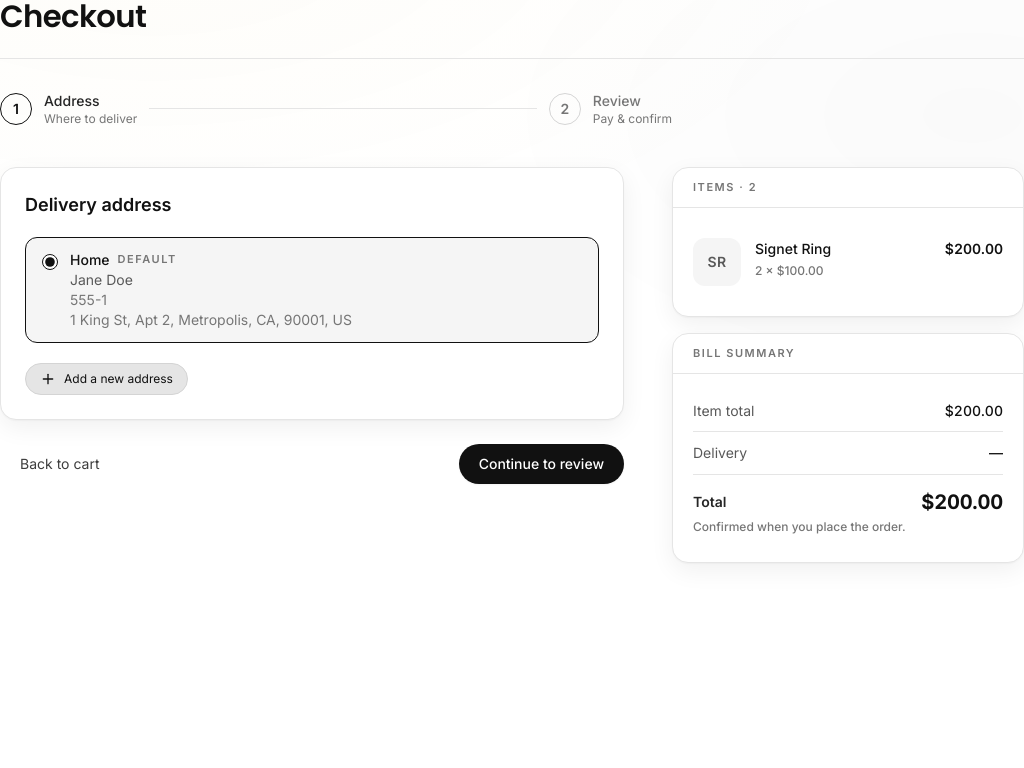
Test: Checkout (WP-2.5) › defaults to the online gateway over Manual UPI over COD when all three are enabled
Expected: the heading "Delivery address" is shown, x1=25 y1=194 x2=172 y2=215
Click the radio button labelled "Home": [50, 262] box x1=42 y1=254 x2=58 y2=270
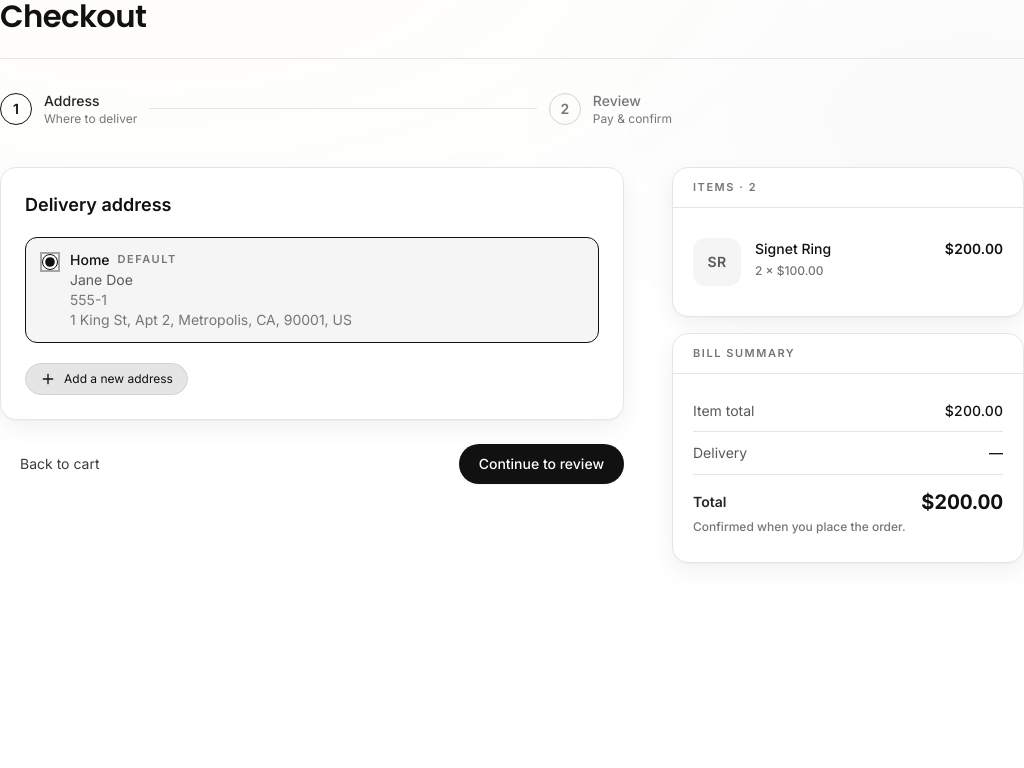
Click the button "Continue to review": [541, 464] box x1=459 y1=444 x2=624 y2=484
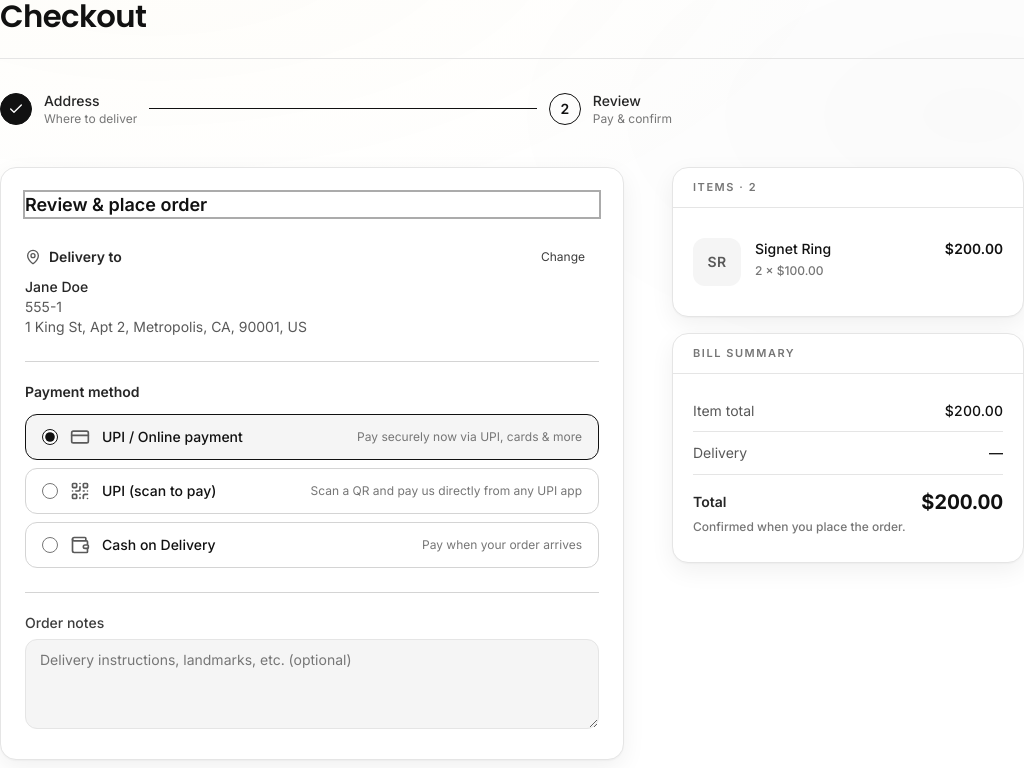
Result: the heading "Payment method" is shown at x1=25 y1=383 x2=140 y2=400
Result: the radio button labelled "UPI / Online payment Pay securely now via UPI, cards & more" is checked at x1=42 y1=429 x2=58 y2=445
Result: the radio button labelled "UPI (scan to pay)" is not checked at x1=42 y1=483 x2=58 y2=499
